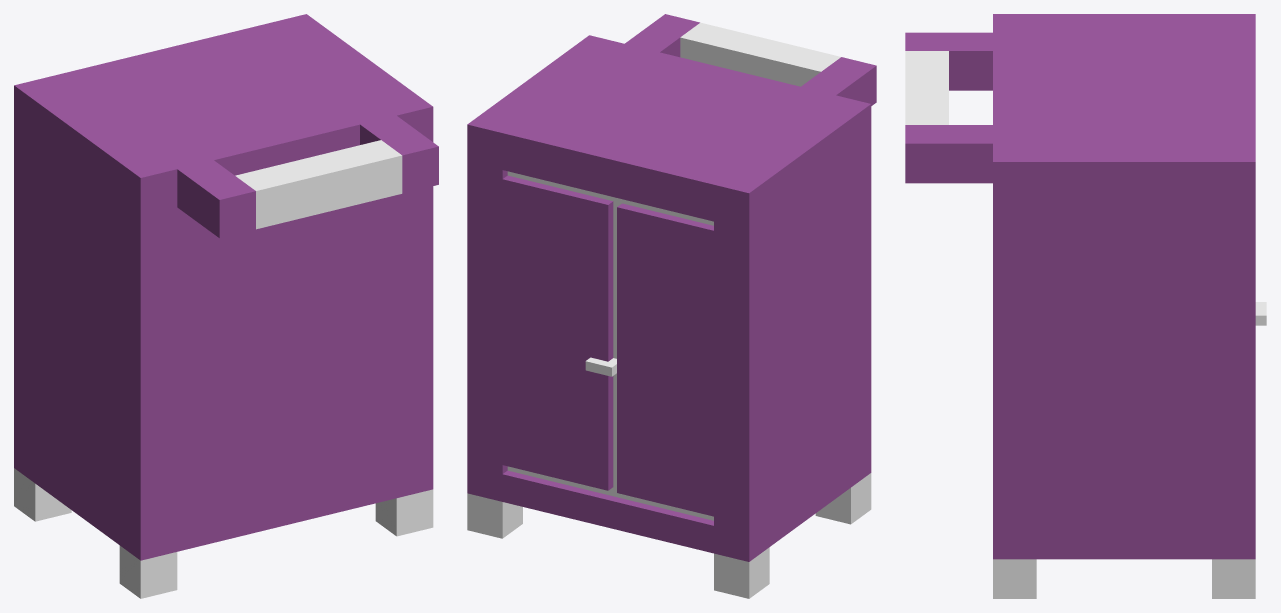
The model's file is Cart.fbx.
3 views of the same model, side by side, from view 1: azimuth 30°, elevation 25°; view 2: azimuth 150°, elevation 25°; view 3: azimuth 270°, elevation 25° (orthographic). The views are drawn at different scales.
Visible parts, largest first — view 1: default; view 2: default; view 3: default.
Boxes of the visible parts, box(x1,y1,x2,y2) form: default: box(14, 14, 438, 598); default: box(467, 14, 876, 598); default: box(905, 14, 1266, 598).
Bounding box in the file's own units: 32 × 44 × 33.
